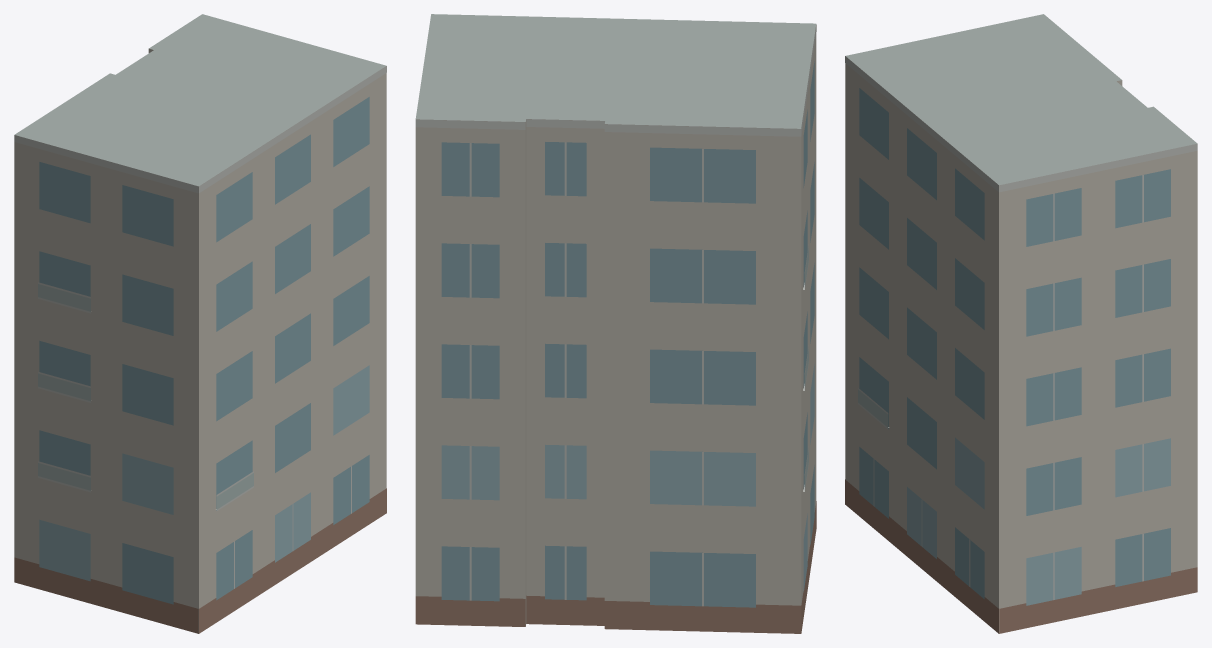
Rendered from survey-upis-32710181.glb.
3 renders of one model, left to right at view 1: azimuth 30°, elevation 25°; view 2: azimuth 150°, elevation 25°; view 3: azimuth 270°, elevation 25°, orthographic. The views are drawn at different scales.
Visible parts, largest first — view 1: survey-upis-32710181.tmp; view 2: survey-upis-32710181.tmp; view 3: survey-upis-32710181.tmp.
Boxes of the visible parts, <box> form: survey-upis-32710181.tmp: <box>14,14,386,633</box>; survey-upis-32710181.tmp: <box>415,14,816,633</box>; survey-upis-32710181.tmp: <box>845,14,1197,633</box>.
Size of the model in its own units: 12.7 by 15.5 by 11.05.
